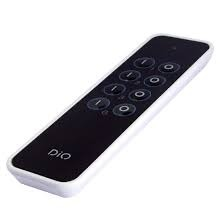remote control: (7, 16, 216, 204)
